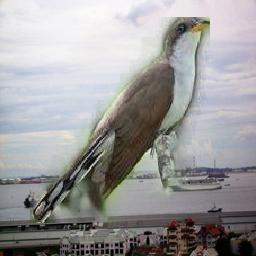Cuckoo: (30, 17, 210, 223)
